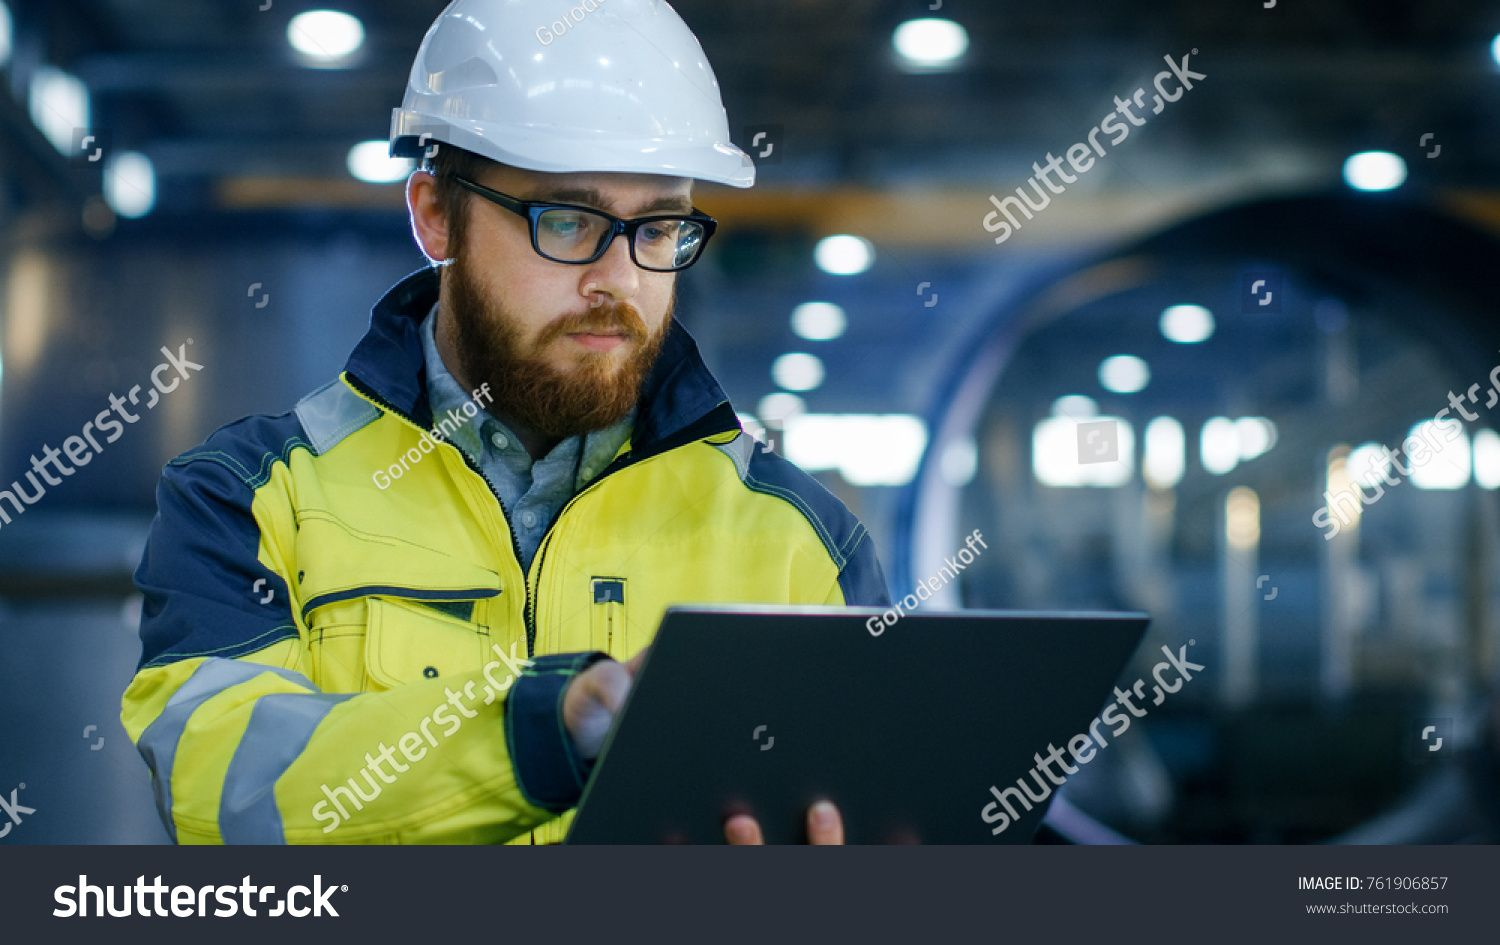Person_wearing_helmet: (374, 2, 776, 283)
